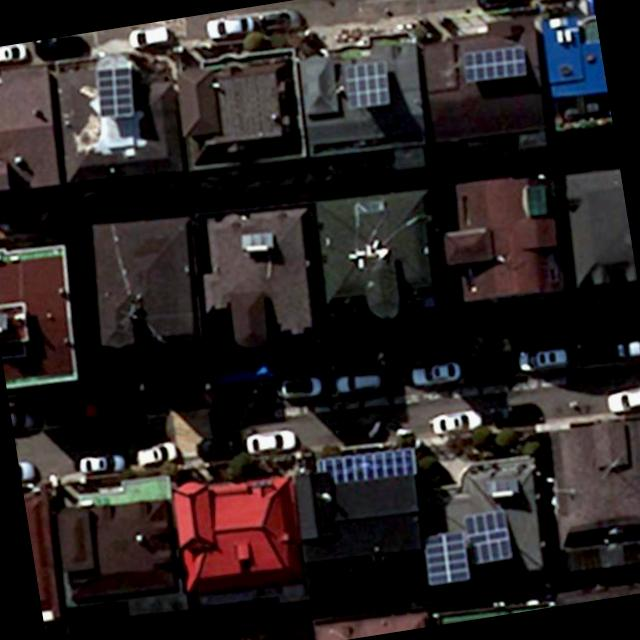solar: (459, 42, 532, 88), (463, 506, 517, 566), (421, 529, 474, 587), (342, 57, 396, 112), (94, 59, 138, 122)
